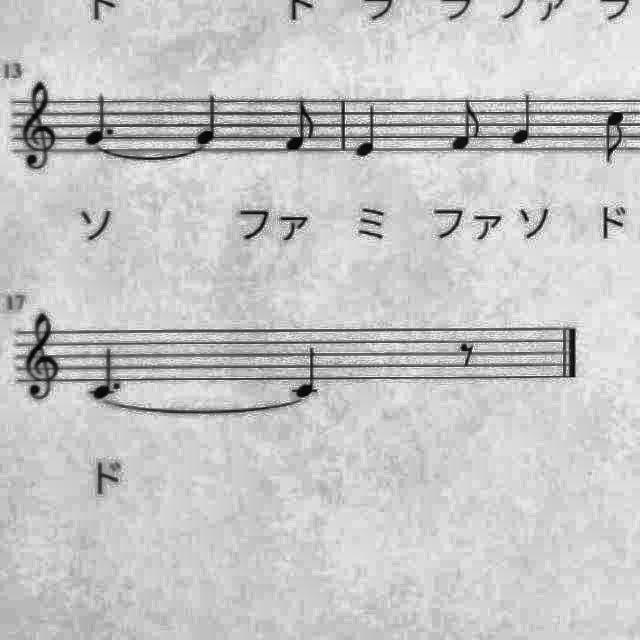Eighth-note: (280, 95, 324, 157), (447, 97, 489, 159), (601, 108, 635, 170)
Eighth-rest: (454, 333, 482, 371)
Quarter-dot: (84, 342, 128, 406), (80, 88, 120, 148)
Quarter-note: (506, 86, 542, 150), (286, 344, 326, 400), (350, 101, 384, 163), (191, 90, 227, 146)
Treble-clef: (18, 308, 70, 406), (14, 74, 62, 174)
